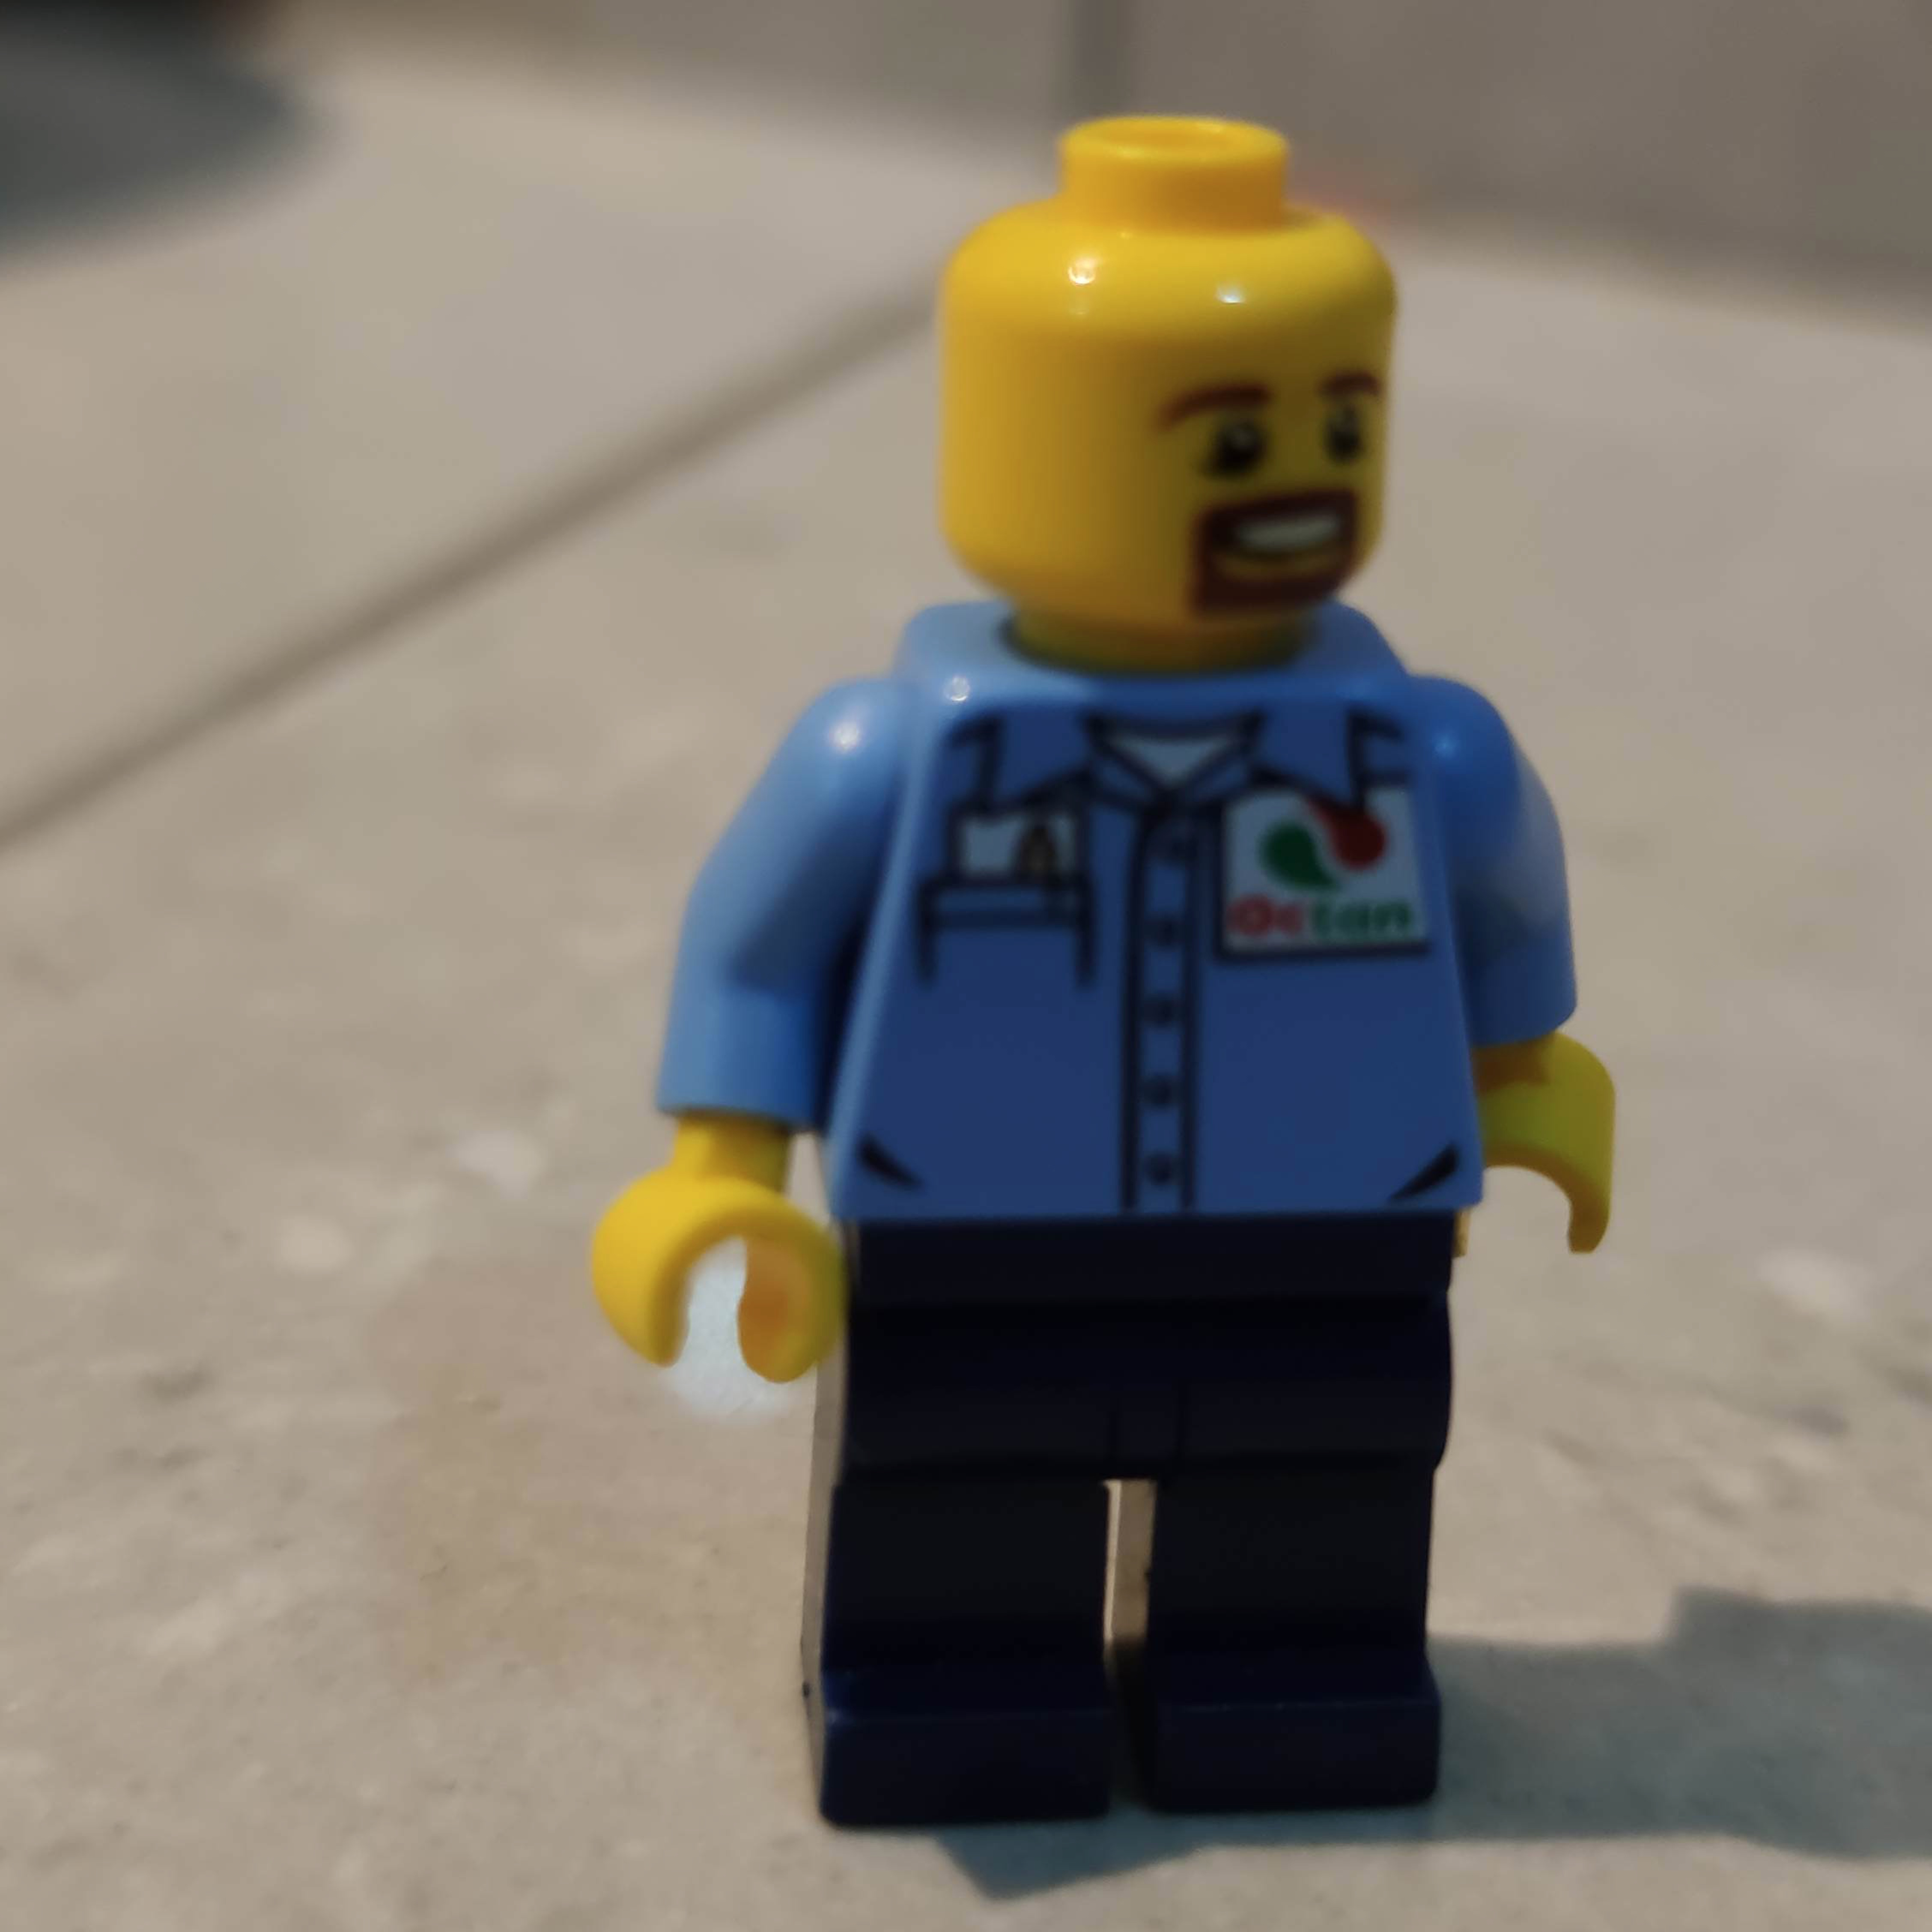lego: (586, 117, 1619, 1840)
